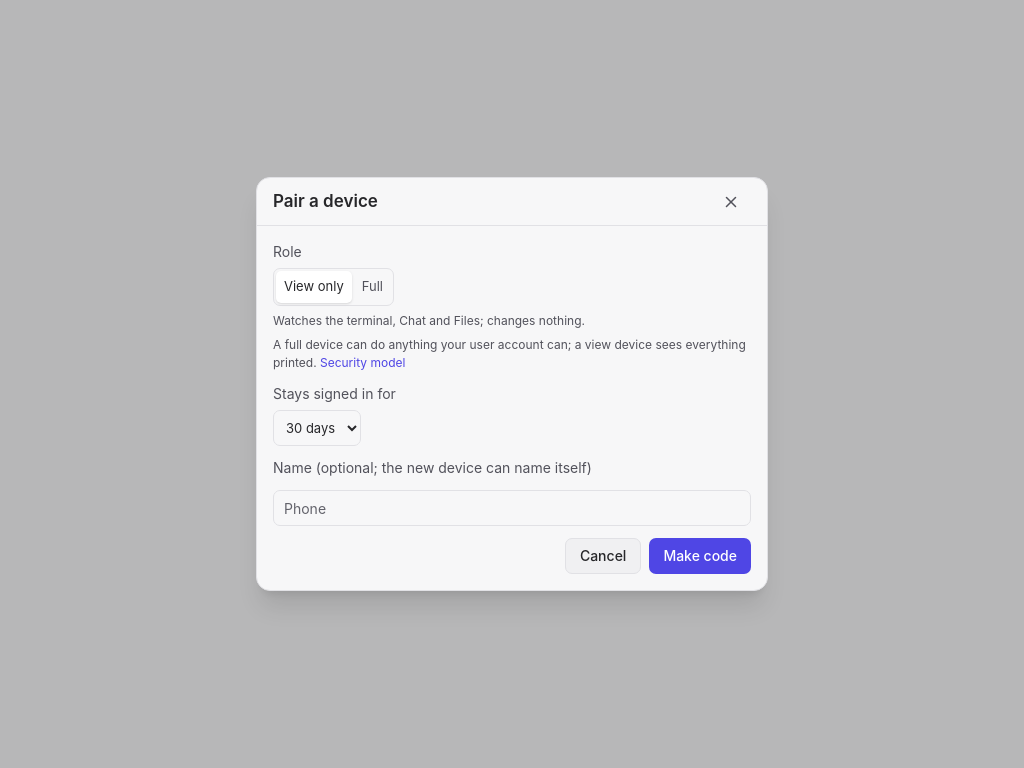
it: PairDeviceSheet › offers a view-only device by default, and explains each role
Check: the text "Watches the terminal, Chat and Files; changes nothing." is shown, box [273,313,585,328]
Click the radio button labelled "Full".
click(372, 287)  # box [354,271,391,303]
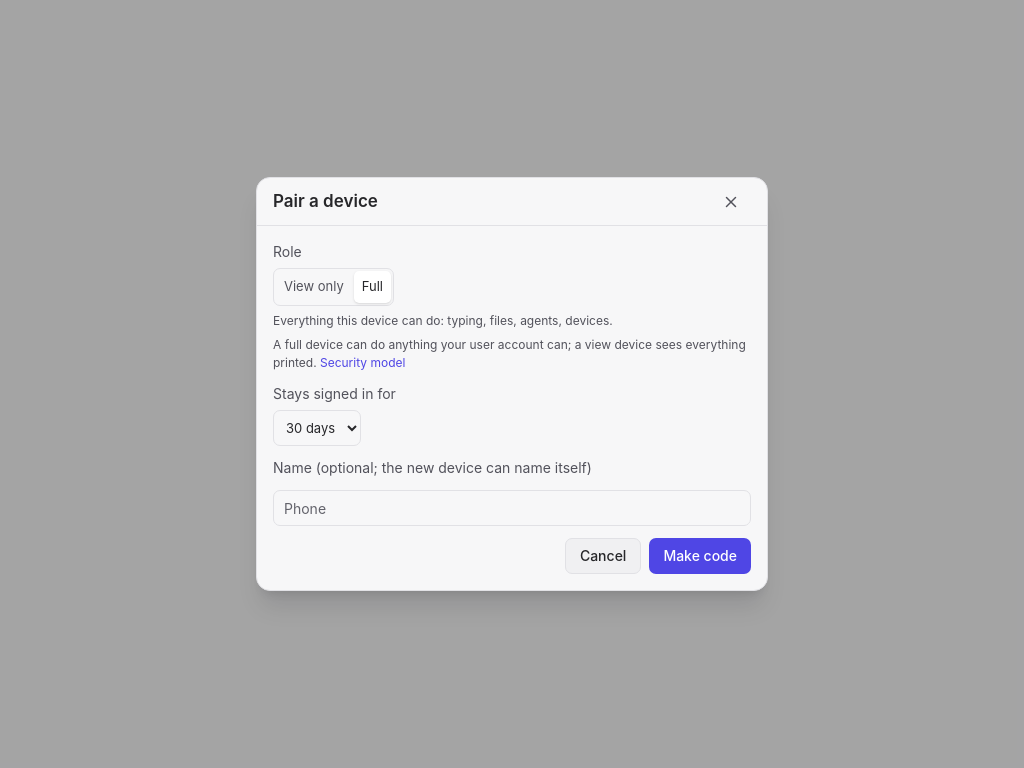
Check: the text "Everything this device can do: typing, files, agents, devices." is shown, box [273,313,613,328]
